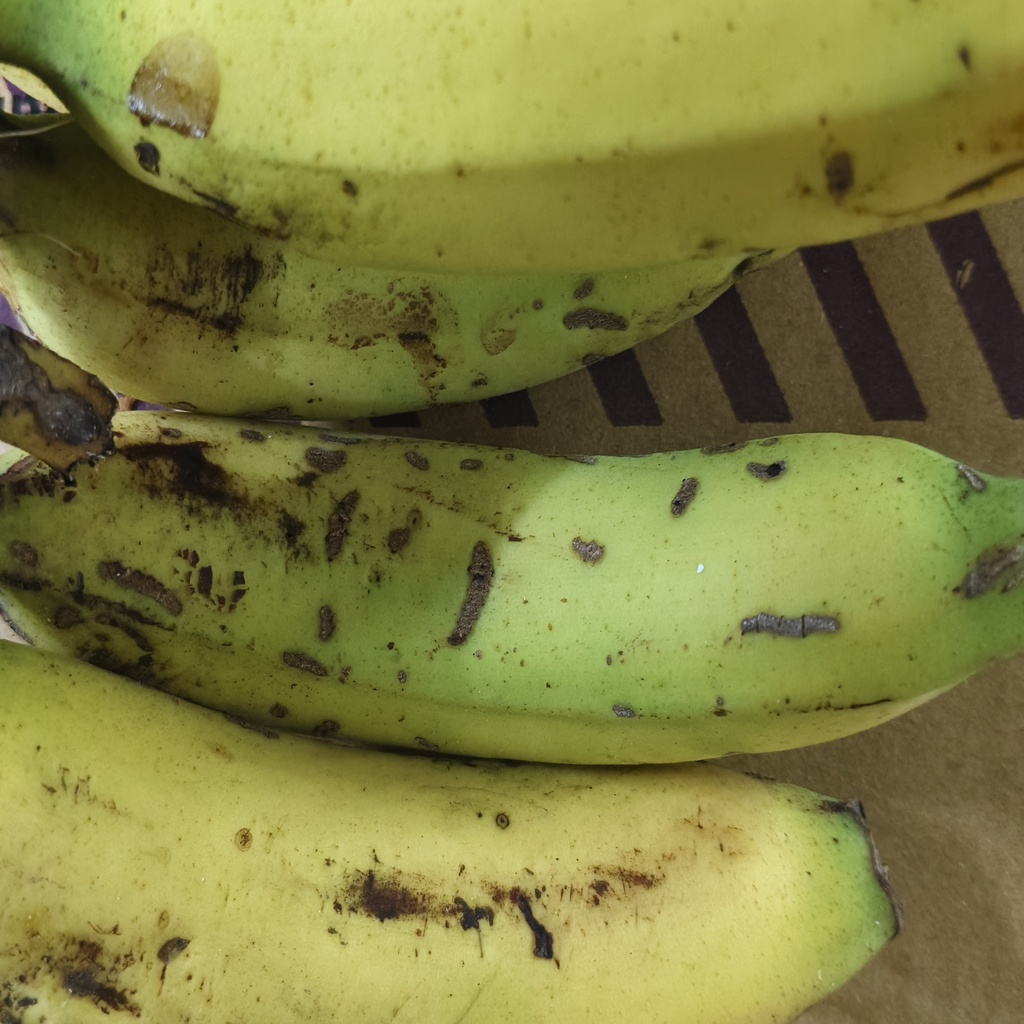unhealthy: (16, 418, 1024, 767)
